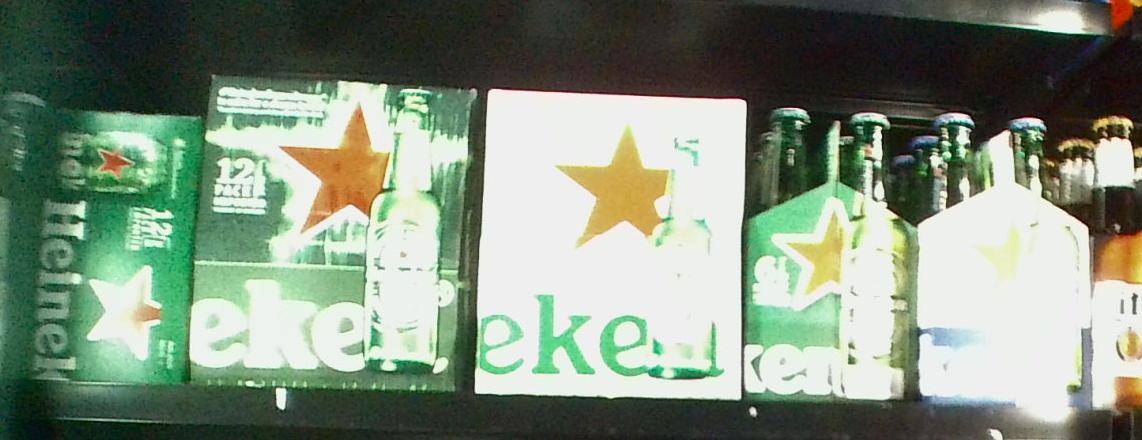bottle: (206, 70, 469, 393), (480, 90, 747, 399), (918, 110, 1092, 414), (11, 104, 195, 382), (751, 104, 915, 400)
